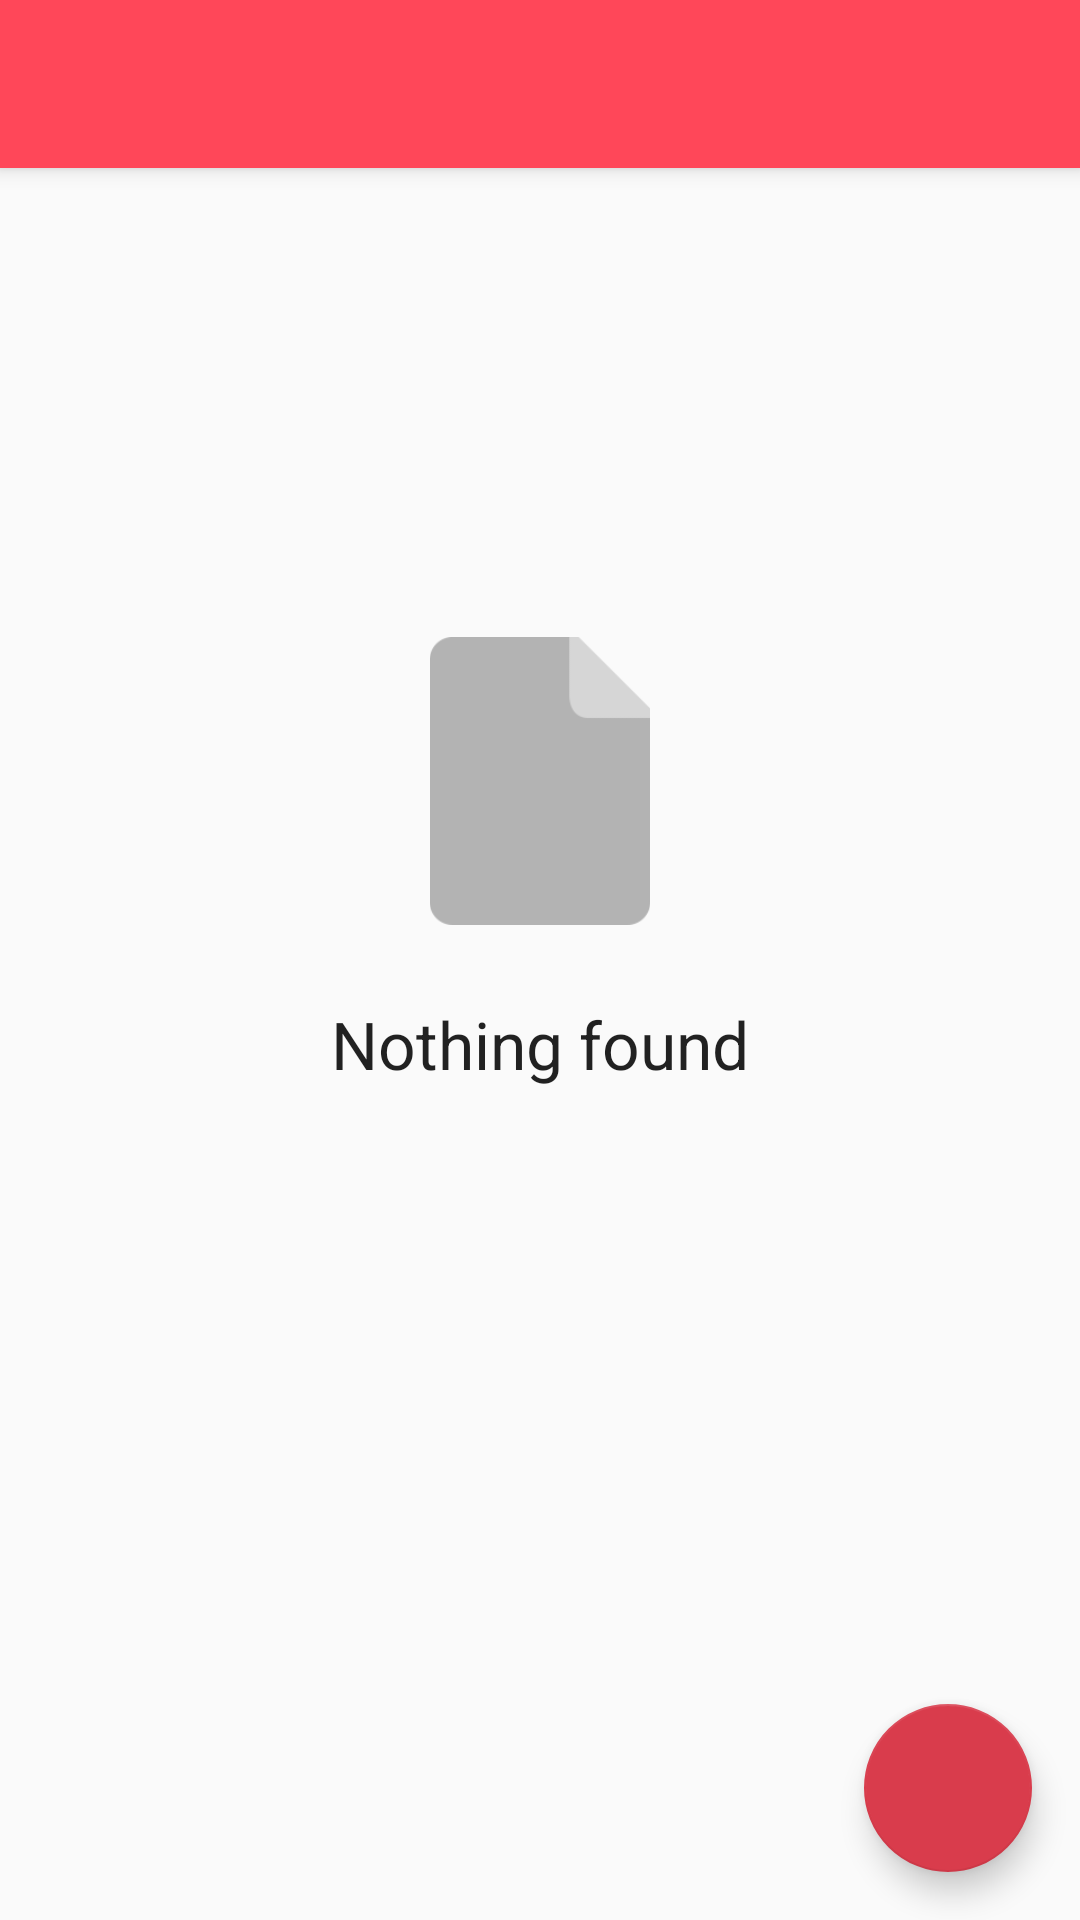

Screen size 1080px×1920px. Icon name, then its center in pixels as point (x, y):
empty: point (540, 781)
